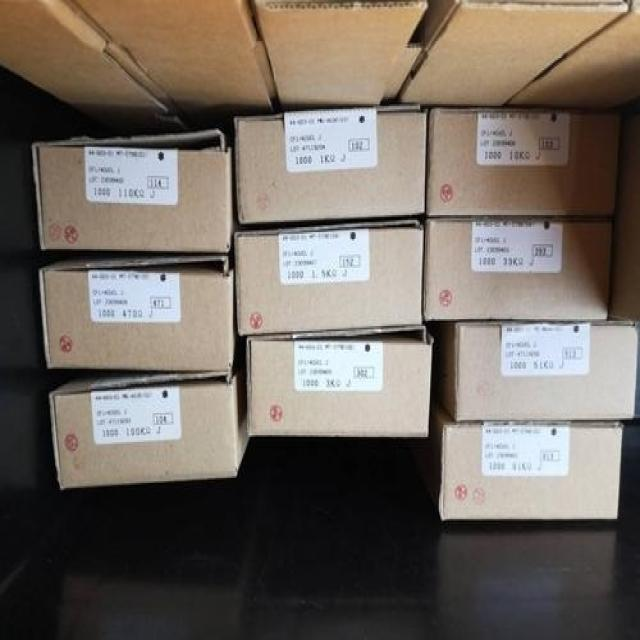box: (232, 108, 429, 236), (33, 128, 232, 251), (52, 369, 247, 490), (425, 314, 639, 423), (433, 398, 620, 521), (37, 254, 236, 369), (232, 220, 425, 338), (424, 108, 620, 220), (244, 326, 431, 437), (424, 218, 612, 319)
